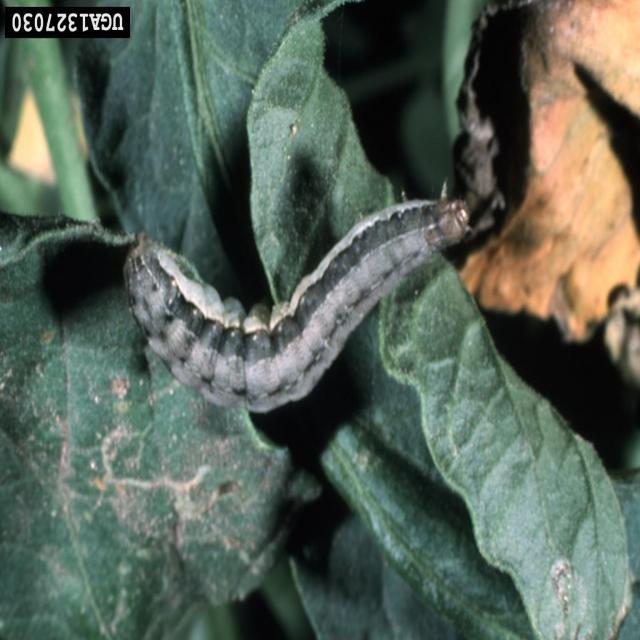army worm: (123, 193, 479, 427)
